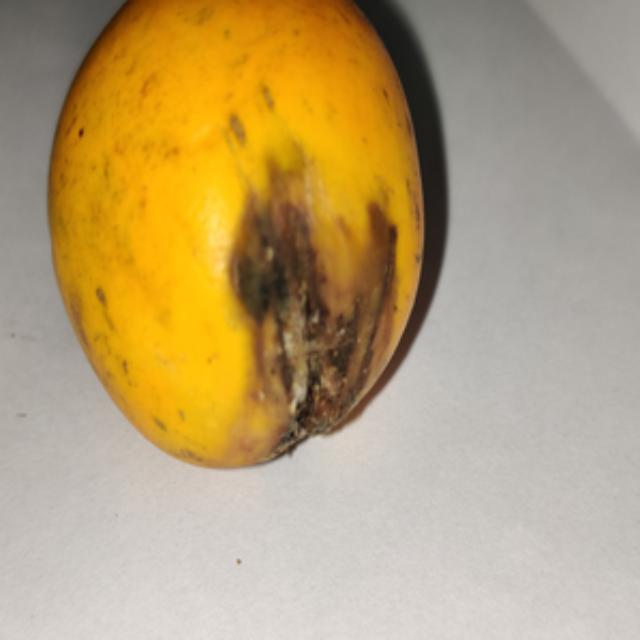damaged: (47, 0, 432, 473)
